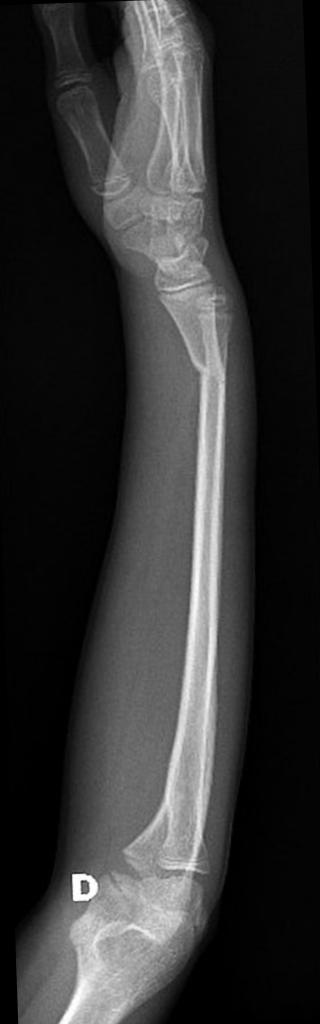line: (188, 356, 224, 387)
